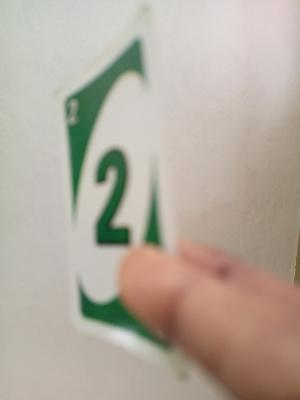green: (73, 101, 163, 231)
